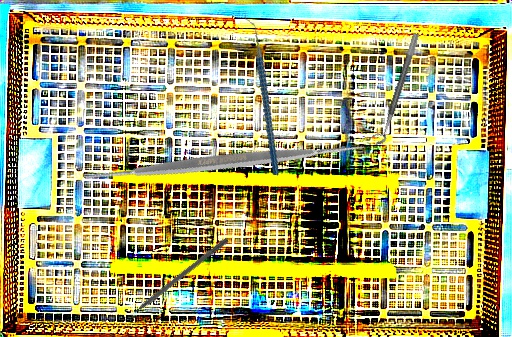Chopper: (215, 15, 308, 176)
Fixation Ring: (367, 29, 421, 148)
Pusher: (119, 236, 229, 325)
Spatula Surgical: (72, 9, 379, 316)
